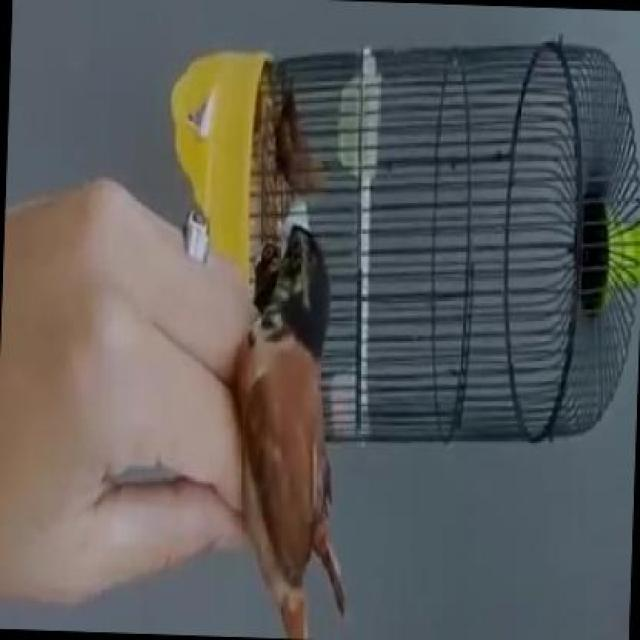Bird: (232, 214, 379, 637), (224, 69, 351, 206)
